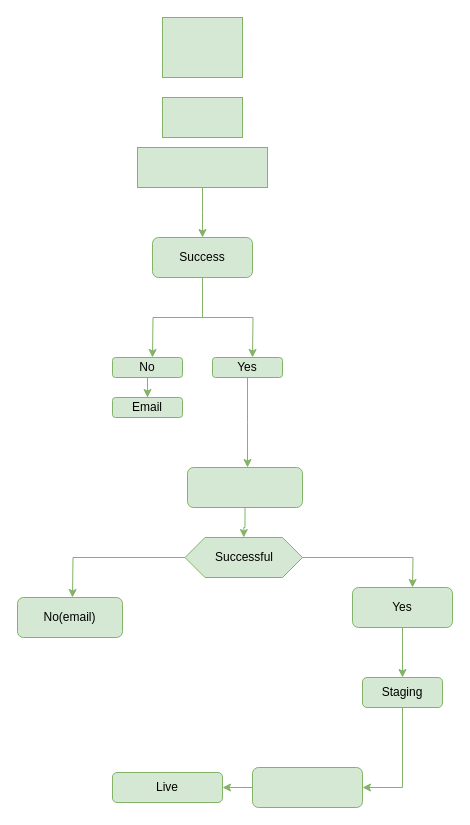
This 470x825 diagram has some shape labels left out. The centre of each missing label's shape, as x and y in pixels:
"1. Docker 2. Jest Test 3. Testing" belongs at point 202,47.
"Integration Testing" belongs at point 244,487.
"Jenkins" belongs at point 202,117.
"Manual(Approve)" belongs at point 307,787.
"Stage 1 - Build Stage 2 - Unit Tests" belongs at point 202,167.
